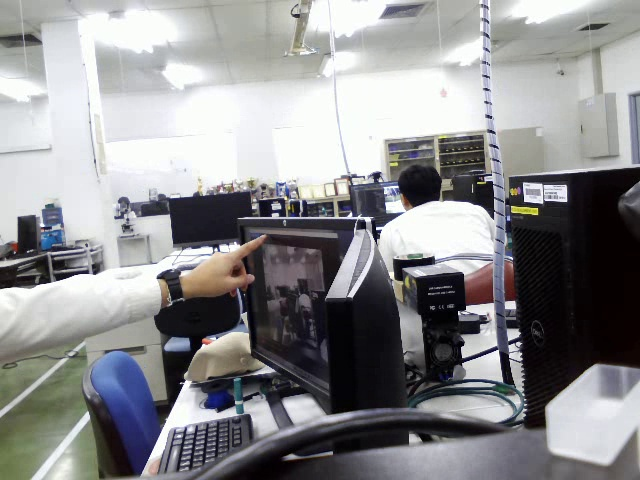aaa: (72, 344, 165, 477)
